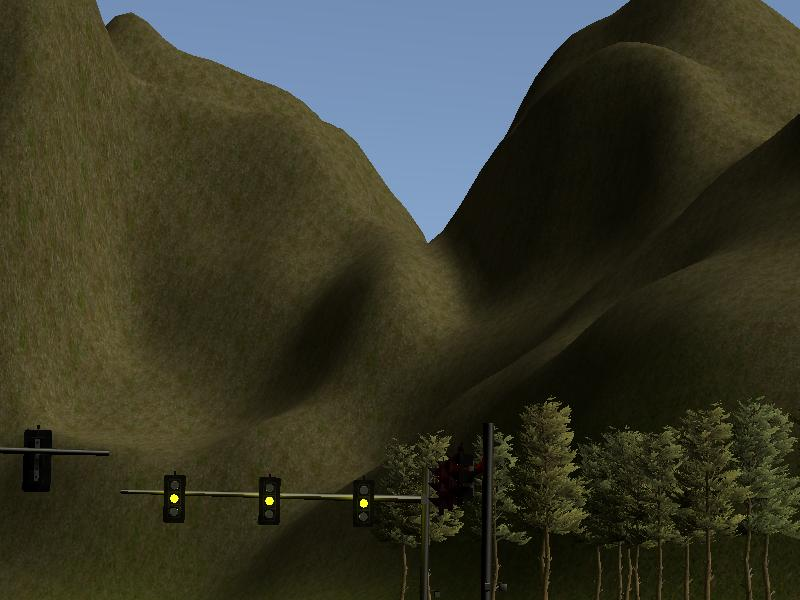Yellow: (163, 474, 185, 523), (257, 478, 279, 523), (354, 479, 371, 527)
